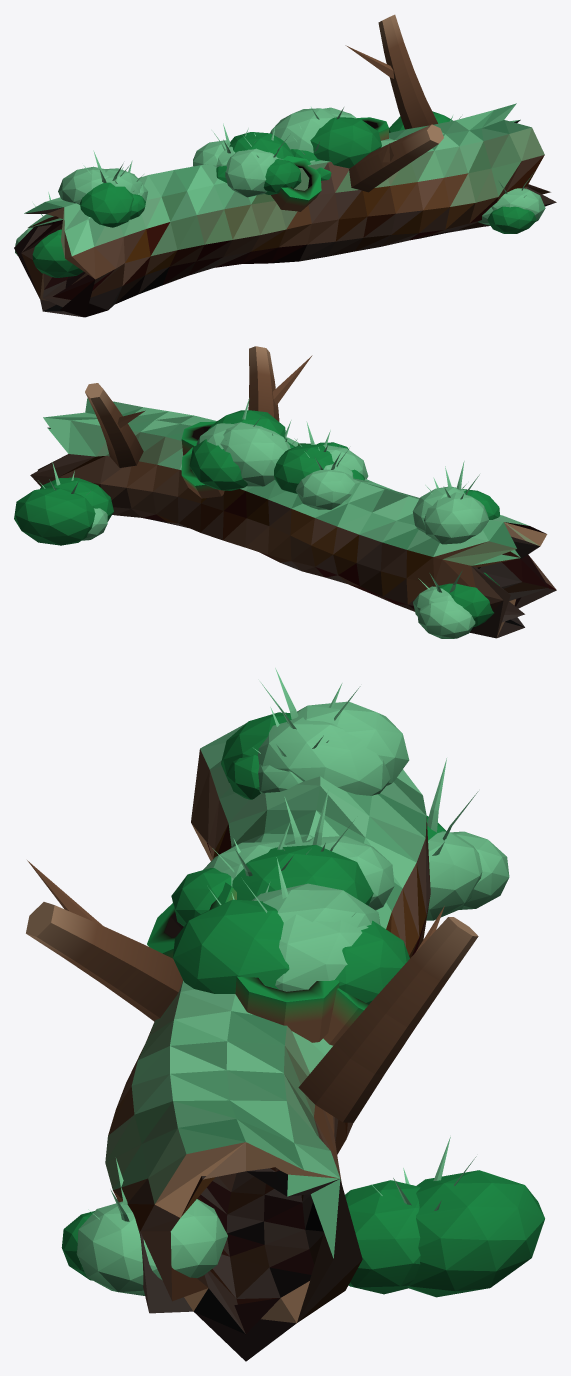
The model's file is pohon_tumbang_hollow_rainforest_517077 (1).glb.
The picture shows the model from 3 angles, top to bottom: view 1: azimuth 30°, elevation 25°; view 2: azimuth 150°, elevation 25°; view 3: azimuth 270°, elevation 25°; orthographic projection. The views are drawn at different scales.
Visible parts, largest first — view 1: Batang_Pohon_Berlubang; view 2: Batang_Pohon_Berlubang; view 3: Batang_Pohon_Berlubang.
Part boxes in pixels (x1,y1,x2,y2): Batang_Pohon_Berlubang: [14, 14, 556, 317]; Batang_Pohon_Berlubang: [14, 346, 556, 638]; Batang_Pohon_Berlubang: [26, 668, 544, 1361].
Bounding box in the file's own units: 7.56 × 2.71 × 3.52.
